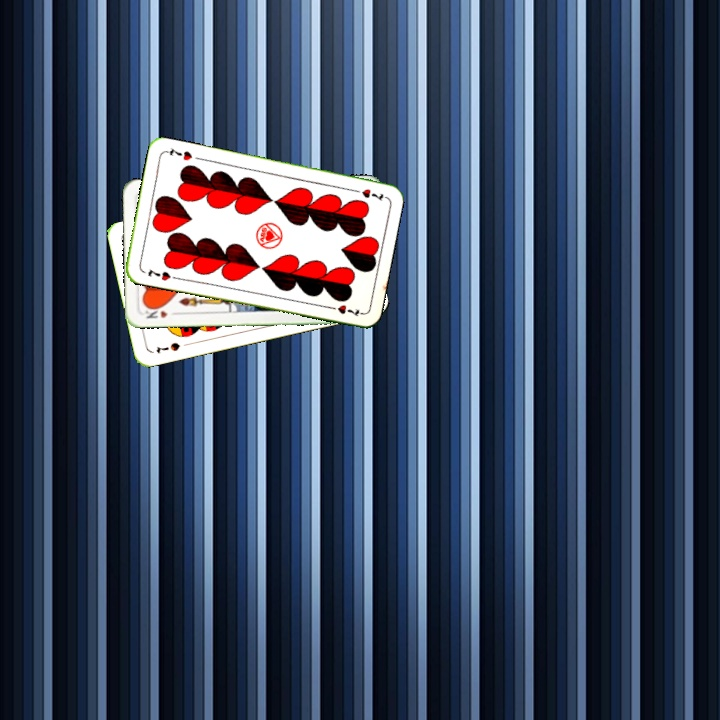H7: (347, 185, 386, 204), (144, 265, 173, 283)
HK: (141, 303, 180, 321)
S7: (152, 338, 183, 356)
